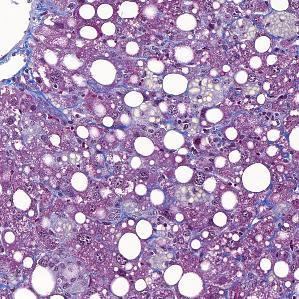fibrosis: (33, 94, 101, 134), (94, 203, 135, 223)
